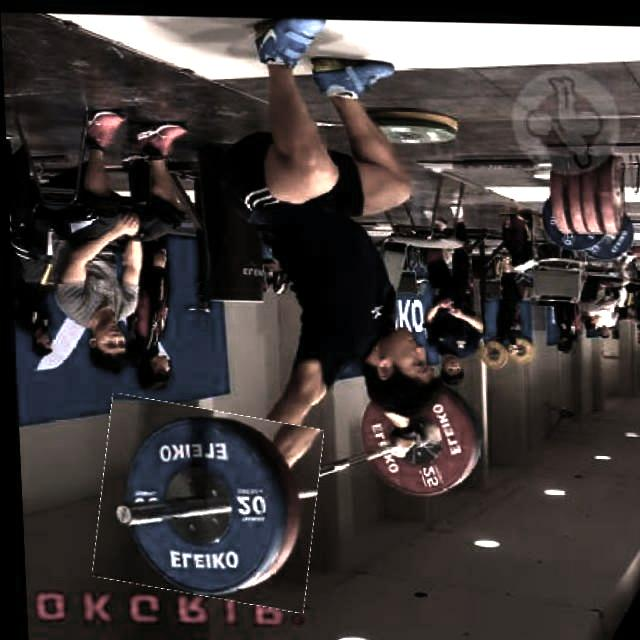barbell: (88, 400, 320, 605)
